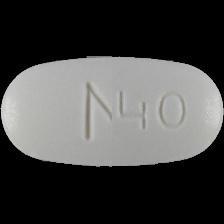0378-2921: (0, 0, 224, 224)
